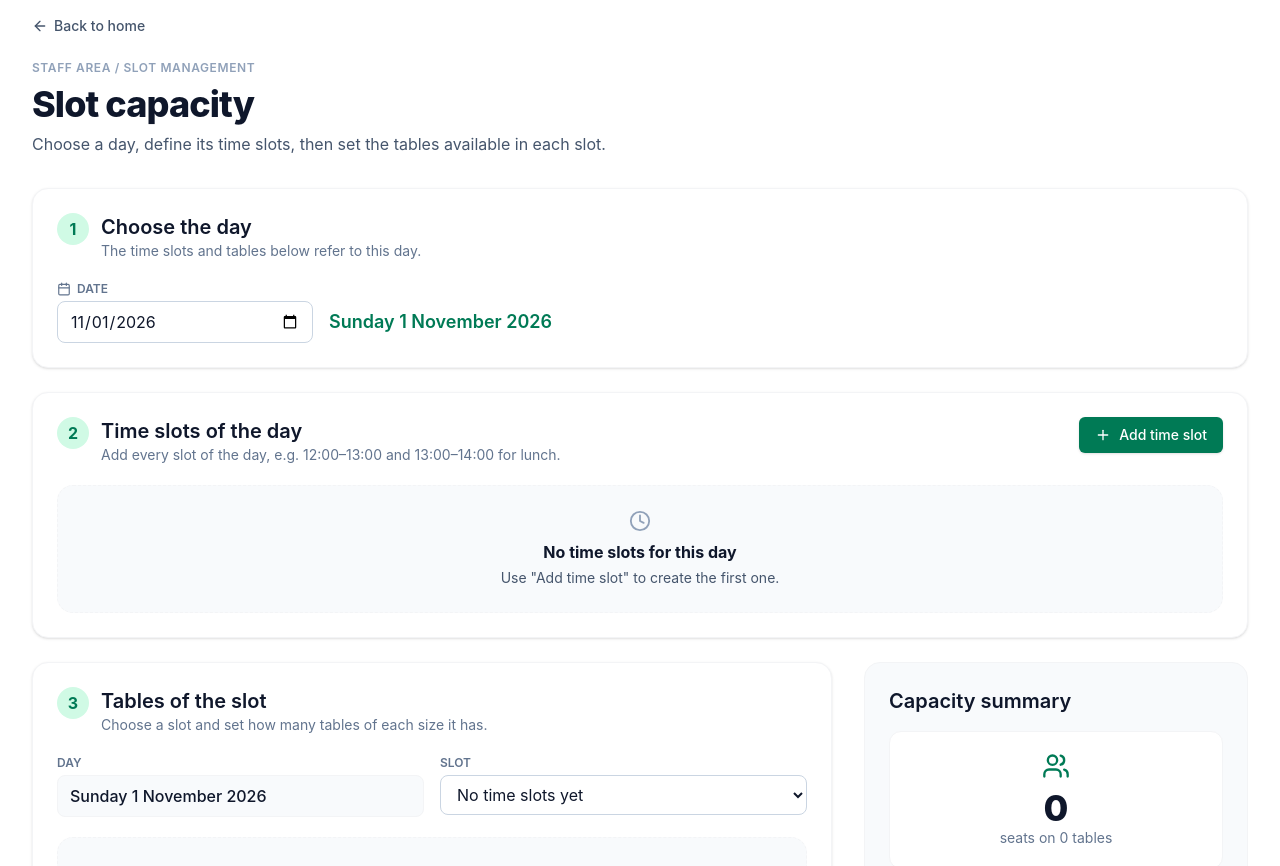
Test: SlotCapacity › adds, edits, and removes table types while updating the capacity summary
Expected: the heading "No time slots for this day" is shown, [543,540,737,564]
Click the button "Add time slot" at [1151, 435], box [1079,417,1223,453]
(page scrolled)
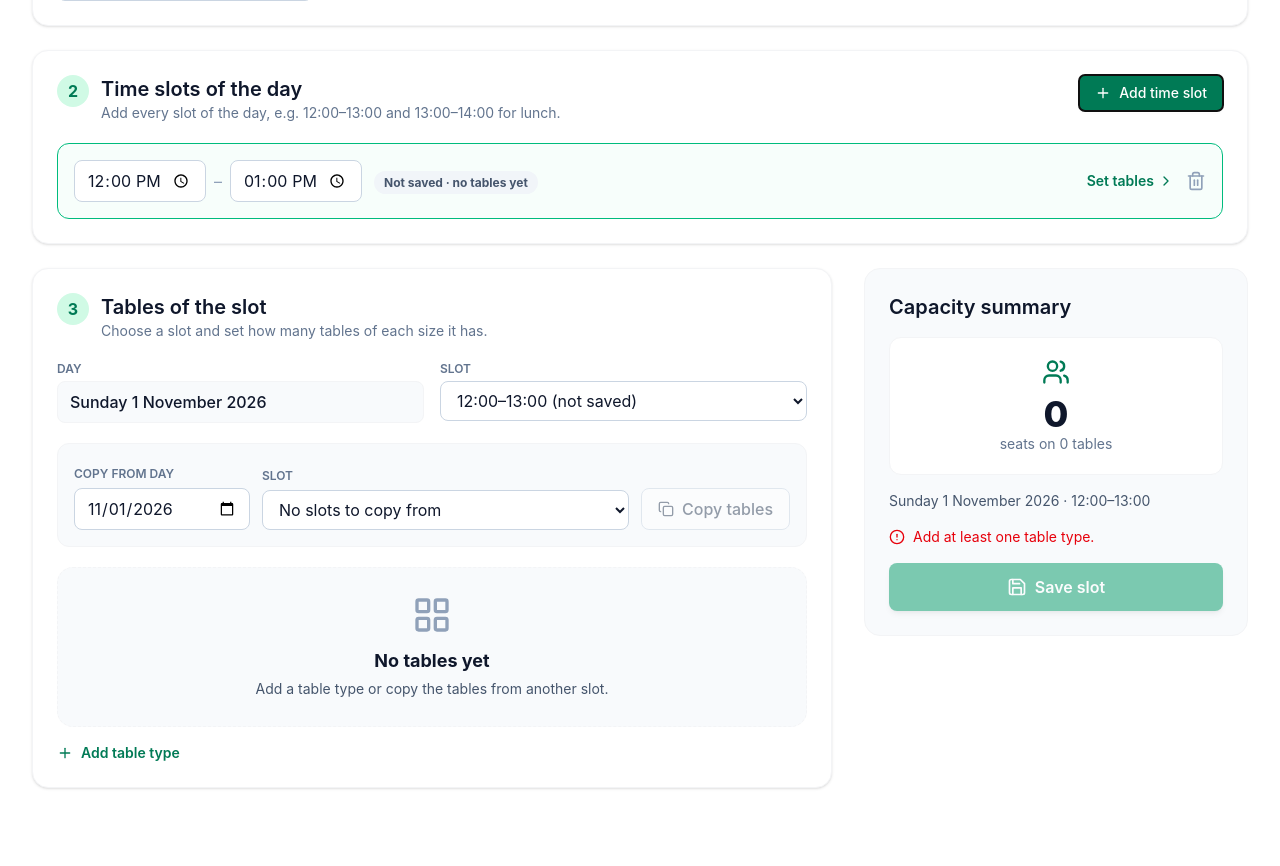
Result: the button "Set tables" is shown at [1087,171,1174,191]
Click the button "Add table type" at [118, 753], box [57,743,180,763]
(page scrolled)
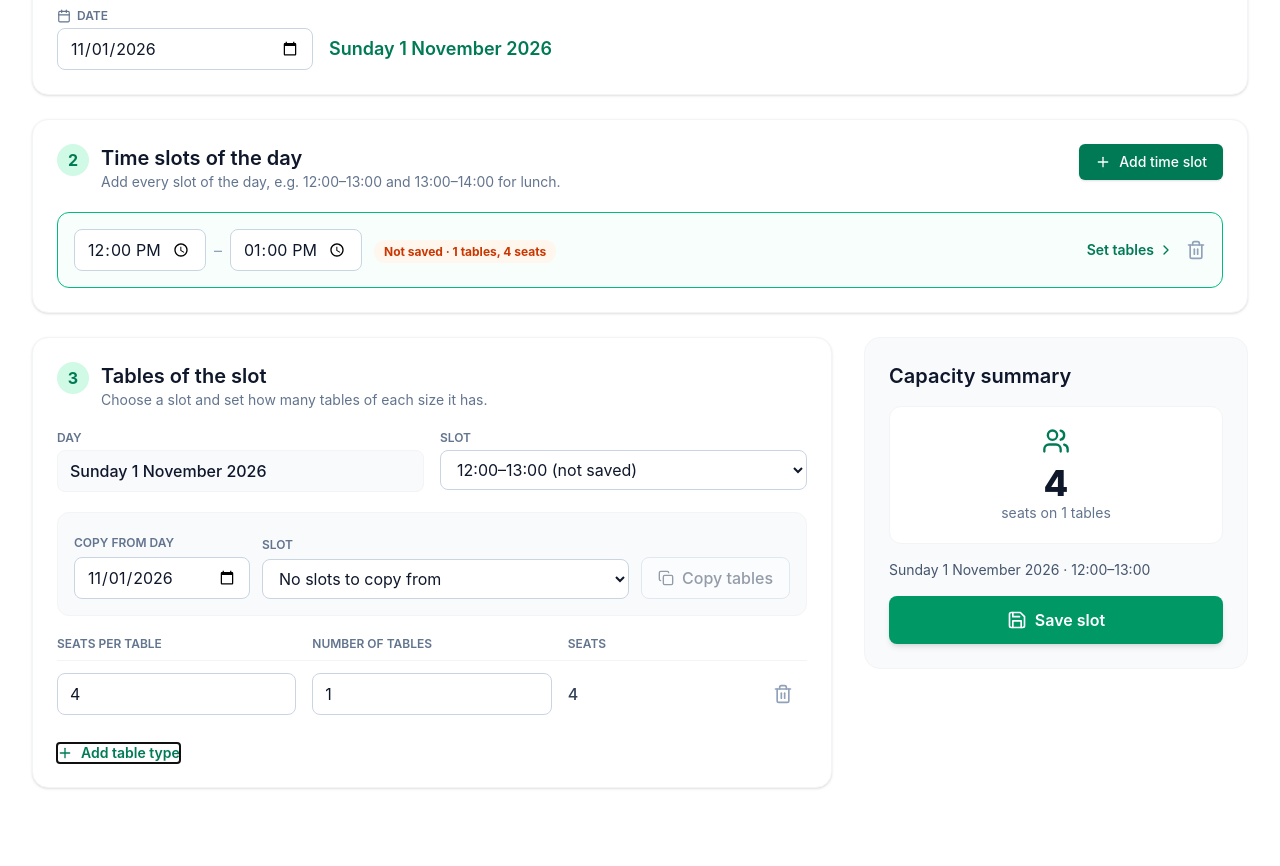
Expected: the text "4" below "Capacity summary" is shown, [1044,461,1068,505]
Result: the number field named "Seats per table" holds "4"
Result: the number field named "Number of tables" holds "1" at [312,673,552,715]
Clear the number field named "Seats per table" at [177, 694], box [57,673,296,715]
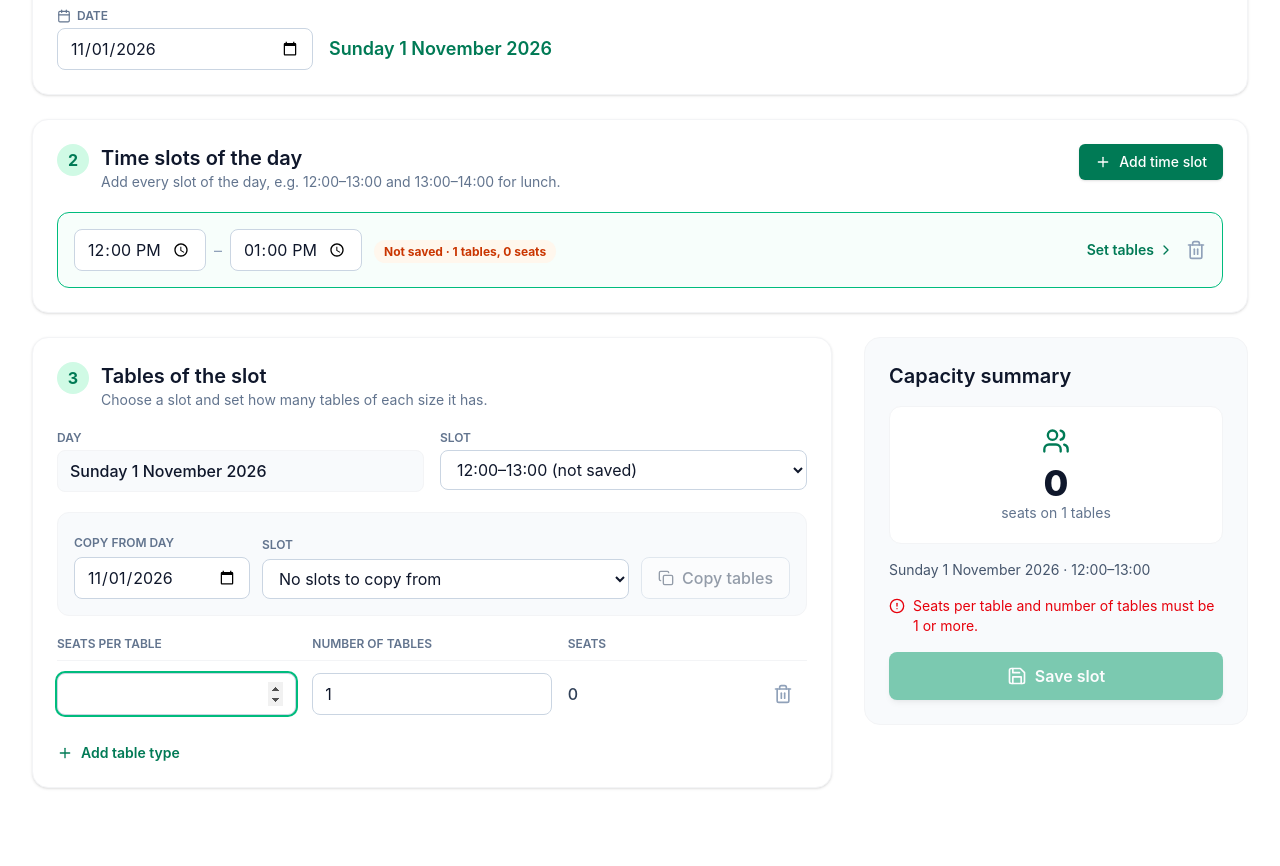
Result: the text "Seats per table and number of tables must be 1 or more." is shown at [889,596,1223,636]
Result: the button "Save slot" is disabled at [889,652,1223,700]
Type "6" into the number field named "Seats per table" at [177, 694], box [57,673,296,715]
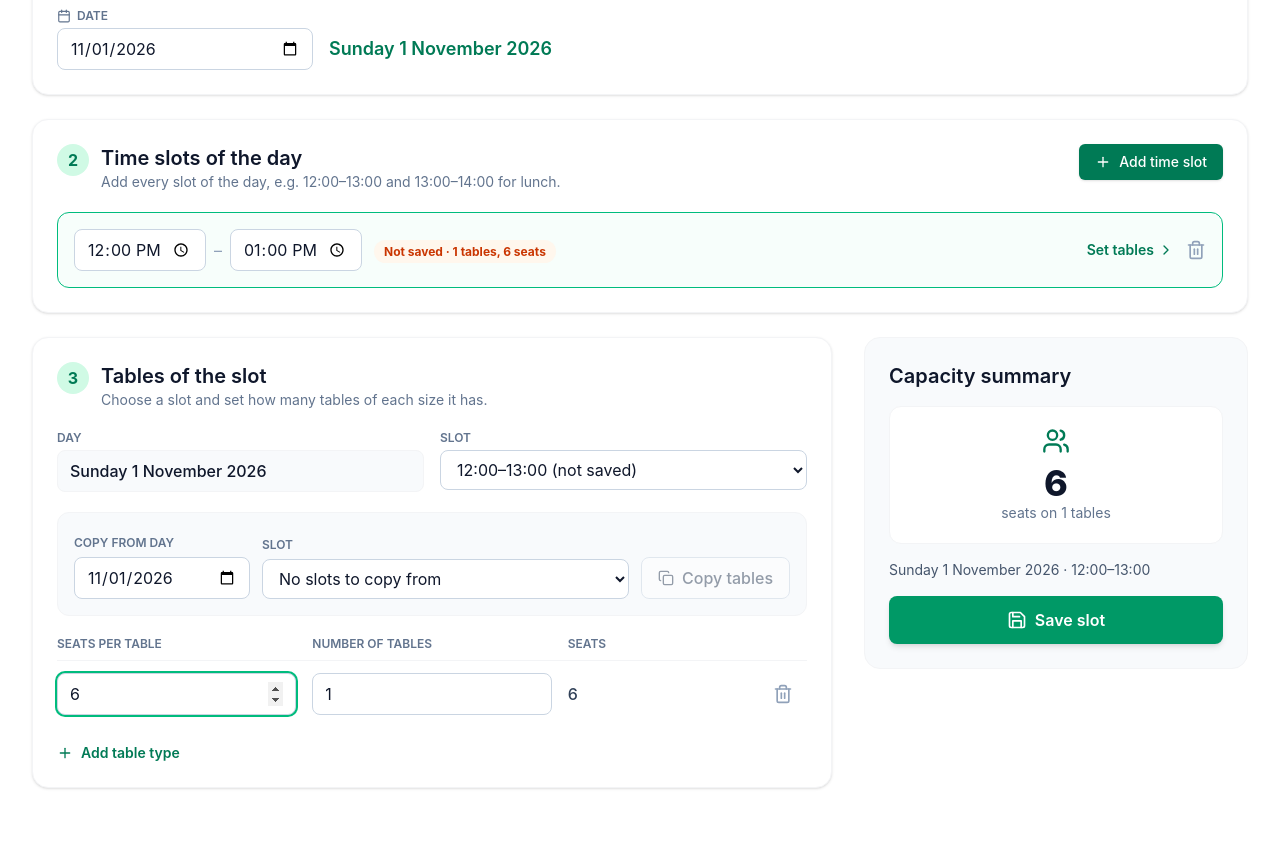
Replace the text in the number field named "Number of tables" with "2" at [432, 694], box [312,673,552,715]
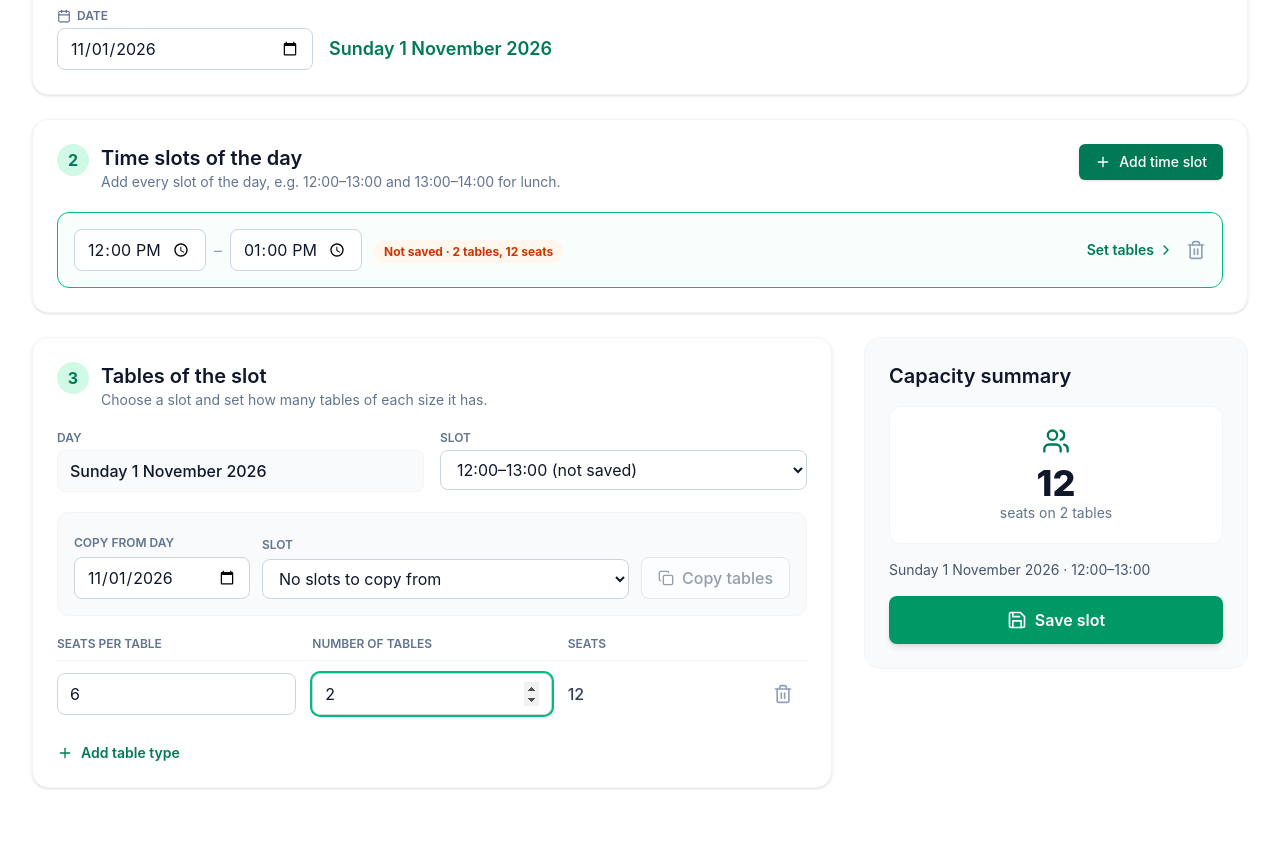
Result: the text "12" below "Capacity summary" is shown at [1037,461,1076,505]
Result: the text "Not saved · 2 tables, 12 seats" is shown at [374,240,563,263]
Click the button named "Remove table type" at [783, 694], box [759,684,807,704]
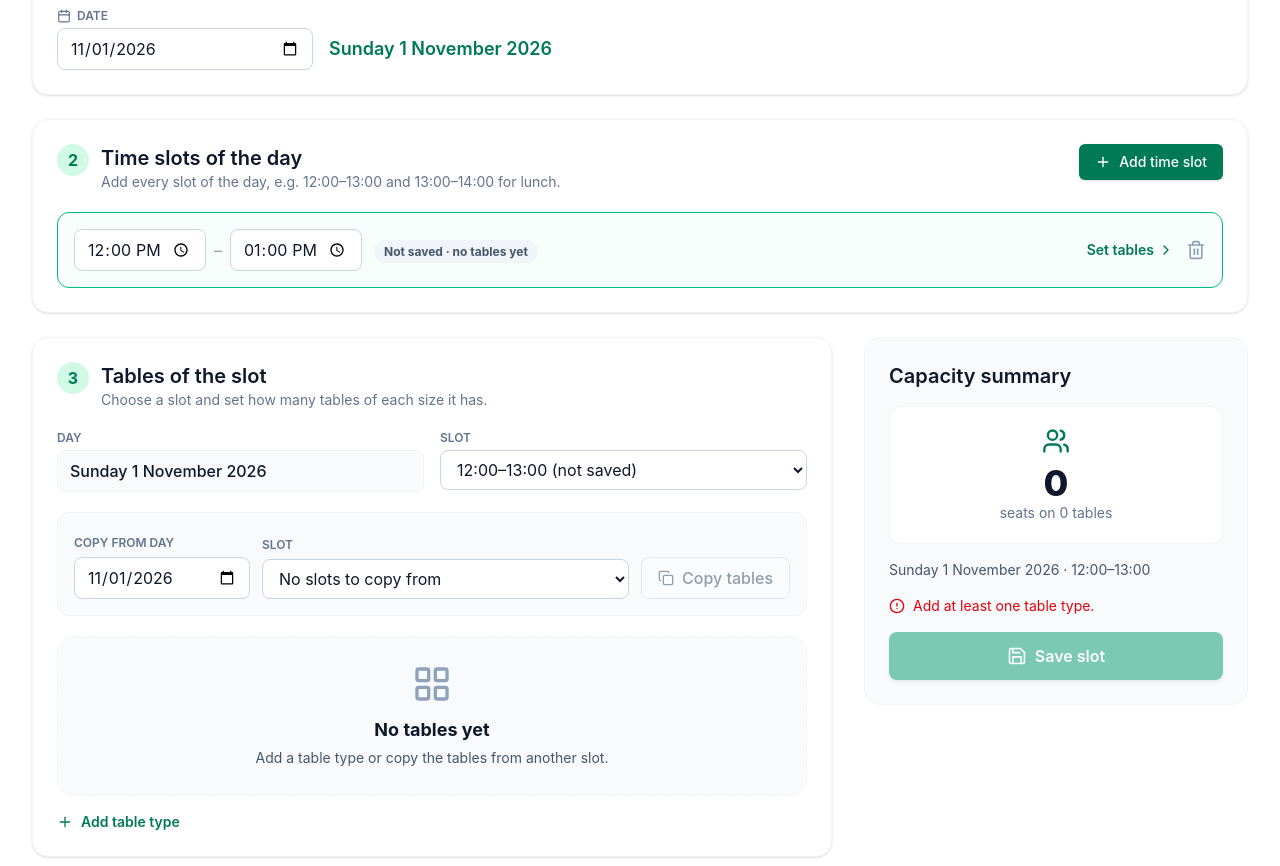
Expected: the text "0" is shown, [1044,461,1068,505]
Result: the text "Add at least one table type." is shown at [889,597,1094,614]
